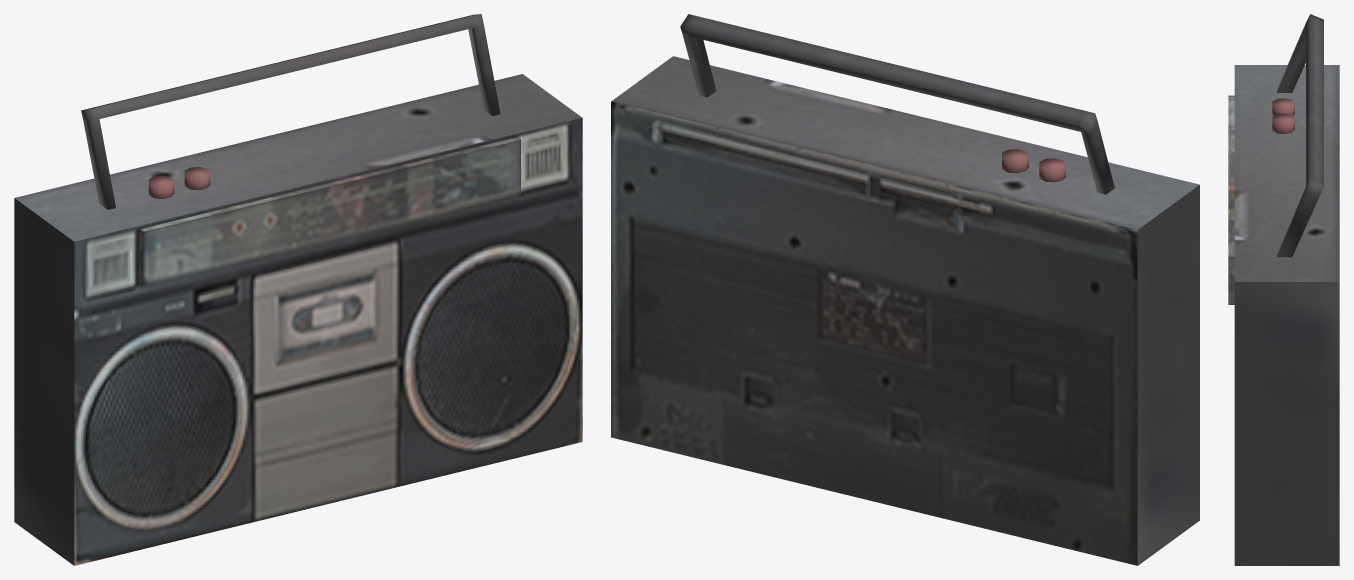
Rendered from SM_Radio_02.fbx.
3 renders of one model, left to right at view 1: azimuth 30°, elevation 25°; view 2: azimuth 150°, elevation 25°; view 3: azimuth 270°, elevation 25°, orthographic. The views are drawn at different scales.
Parts seen in each view (by area): view 1: SM_Radio_02; view 2: SM_Radio_02; view 3: SM_Radio_02.
Part boxes in pixels (x1=…): SM_Radio_02: x1=14, y1=14, x2=582, y2=565; SM_Radio_02: x1=611, y1=14, x2=1199, y2=565; SM_Radio_02: x1=1228, y1=14, x2=1339, y2=565.
Bounding box in the file's own units: 48.47 × 37.41 × 10.49.
